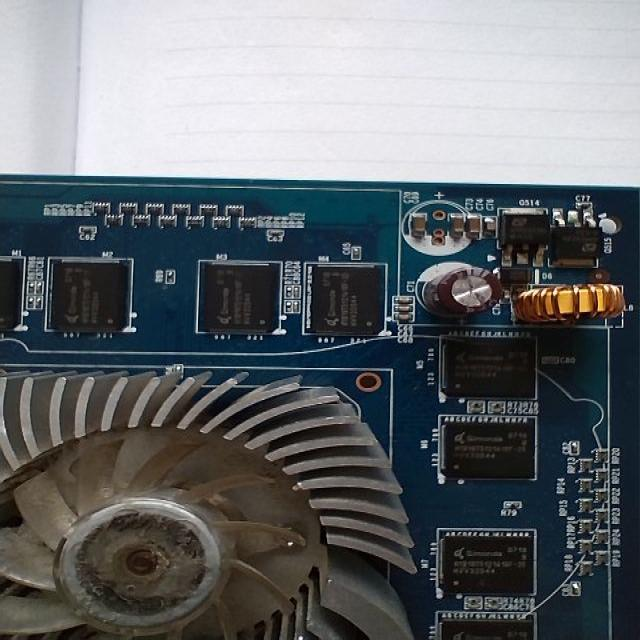capacitor: (406, 210, 432, 242), (445, 210, 468, 242), (390, 290, 418, 307)
